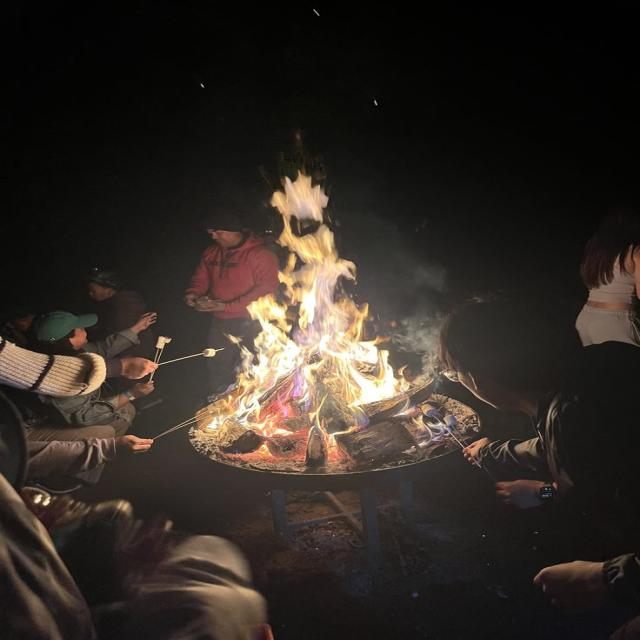fire: (254, 339, 409, 461), (195, 332, 254, 448), (271, 170, 328, 237), (277, 269, 338, 330), (275, 224, 338, 270), (246, 293, 291, 340), (338, 293, 368, 344)
